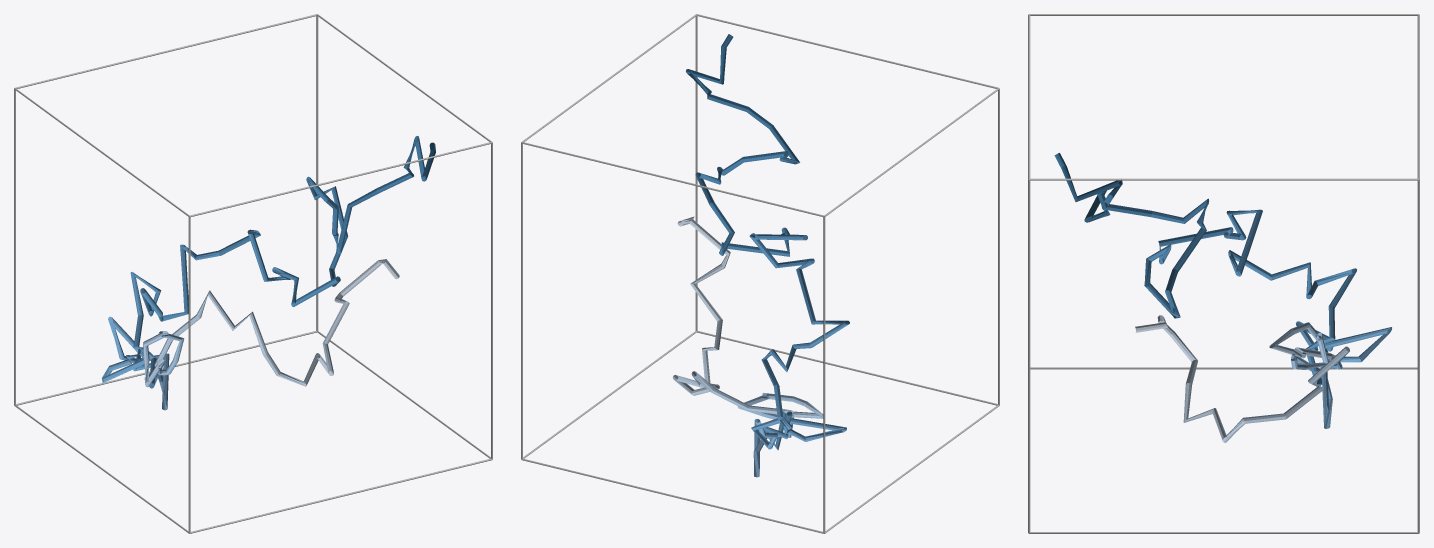
File: BT20_late.glb
The picture shows the model from 3 angles, left to right: view 1: azimuth 30°, elevation 25°; view 2: azimuth 150°, elevation 25°; view 3: azimuth 270°, elevation 25°; orthographic projection. The views are drawn at different scales.
Visible parts, largest first — view 1: geometry_0, geometry_1; view 2: geometry_0, geometry_1; view 3: geometry_0, geometry_1.
Part boxes in pixels (x1,y1,x2,y2): geometry_0: [101, 136, 435, 410]; geometry_1: [14, 14, 492, 533]; geometry_0: [673, 34, 849, 477]; geometry_1: [521, 14, 999, 533]; geometry_0: [1054, 153, 1391, 442]; geometry_1: [1028, 14, 1419, 533].
Bounding box in the file's own units: 0.3016 × 0.302 × 0.3016.
